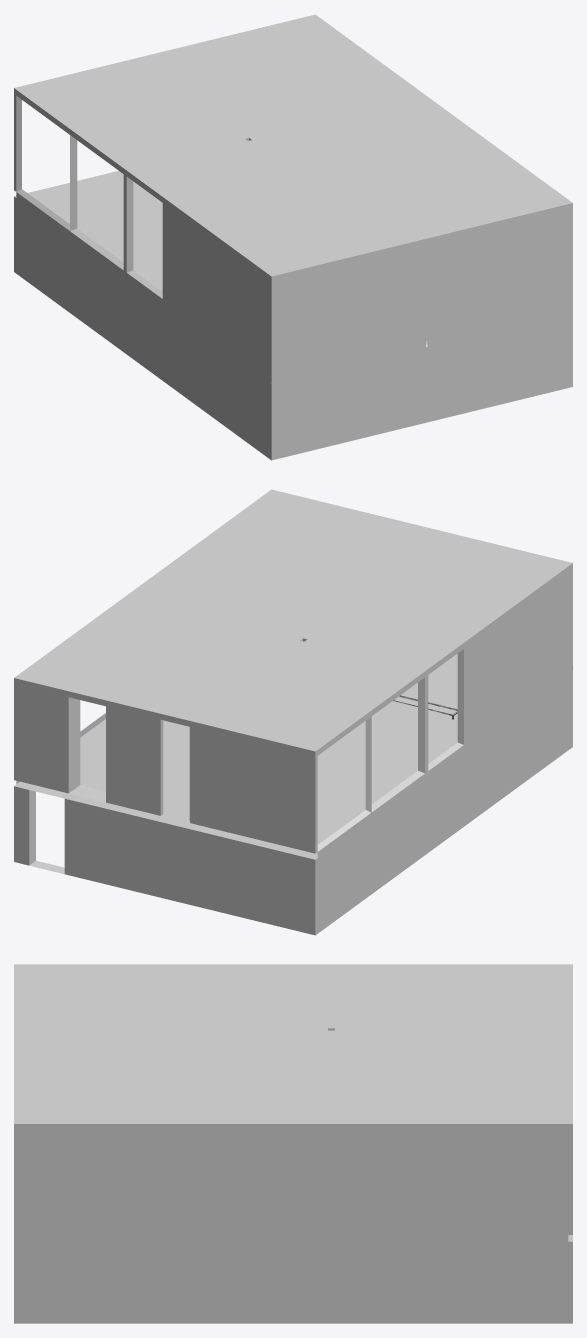
3 views of the same model, one above another, from view 1: azimuth 30°, elevation 25°; view 2: azimuth 150°, elevation 25°; view 3: azimuth 270°, elevation 25° (orthographic). The views are drawn at different scales.
Parts seen in each view (by area): view 1: Cube; view 2: Cube; view 3: Cube.
Boxes of the visible parts, box(x1,y1,x2,y2) form: Cube: box(14, 14, 572, 460); Cube: box(14, 489, 572, 935); Cube: box(14, 964, 572, 1323).
Bounding box in the file's own units: 17.47 × 10.42 × 25.84.
Materials: 3 (3 with a texture image).
